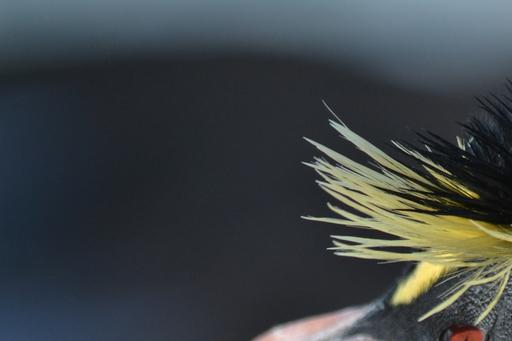Southern Rockhopper Penguin: (191, 67, 512, 341)
